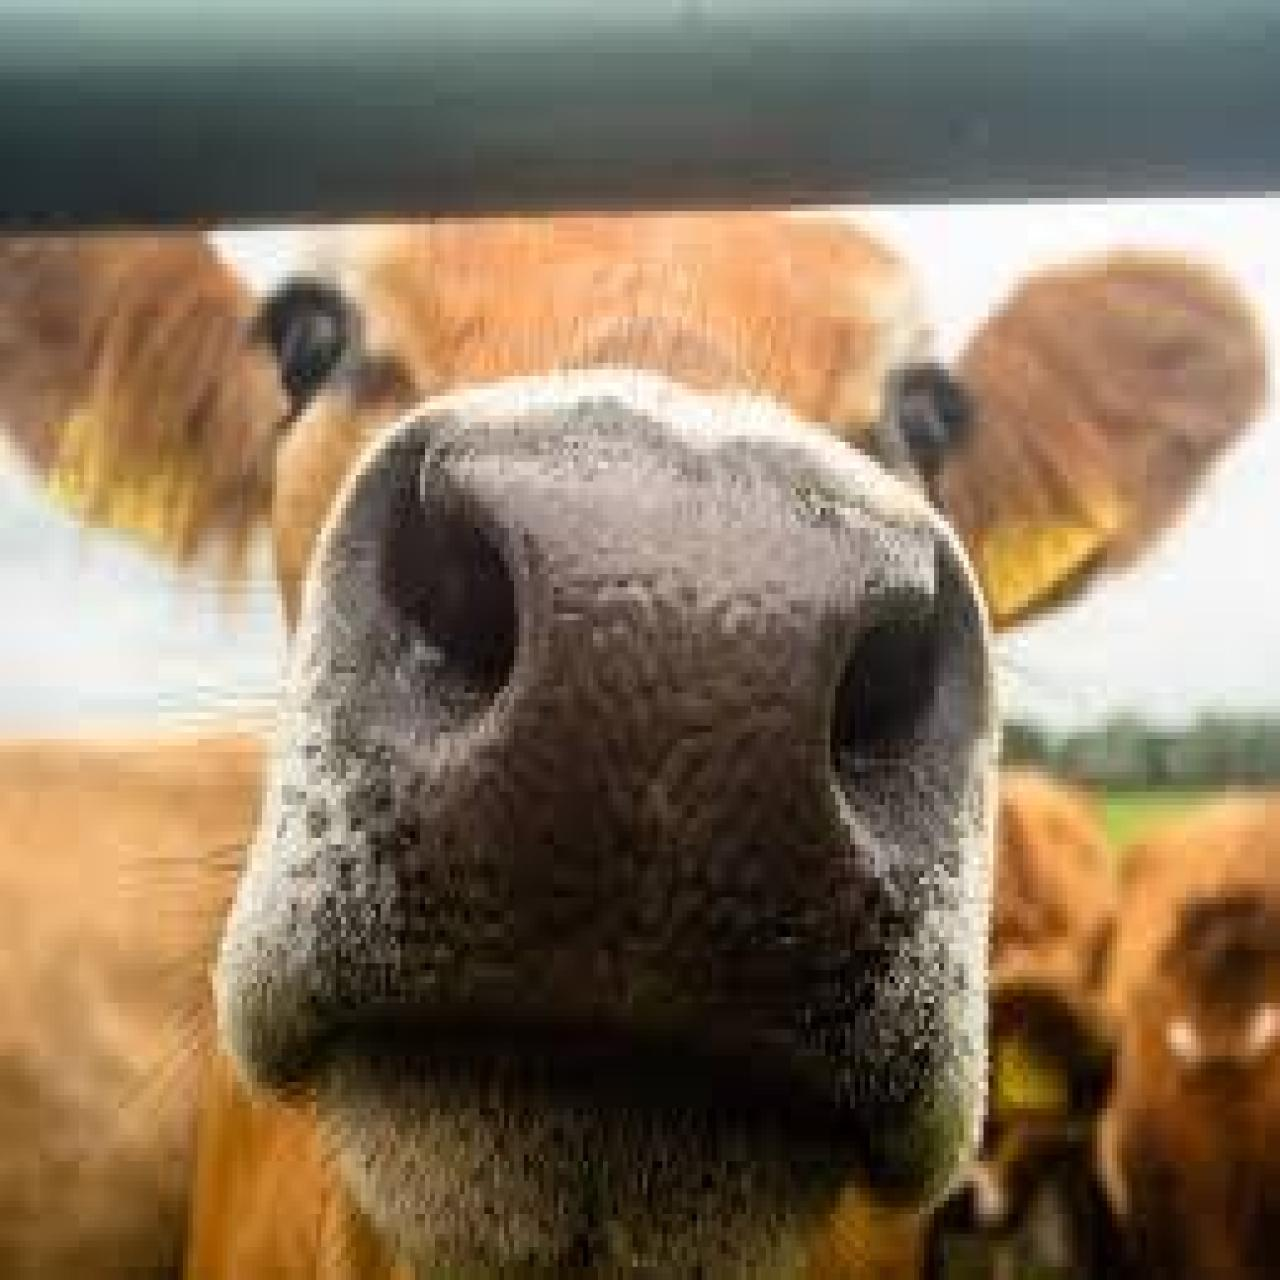cow: (5, 211, 1269, 1280), (1082, 785, 1280, 1280)
